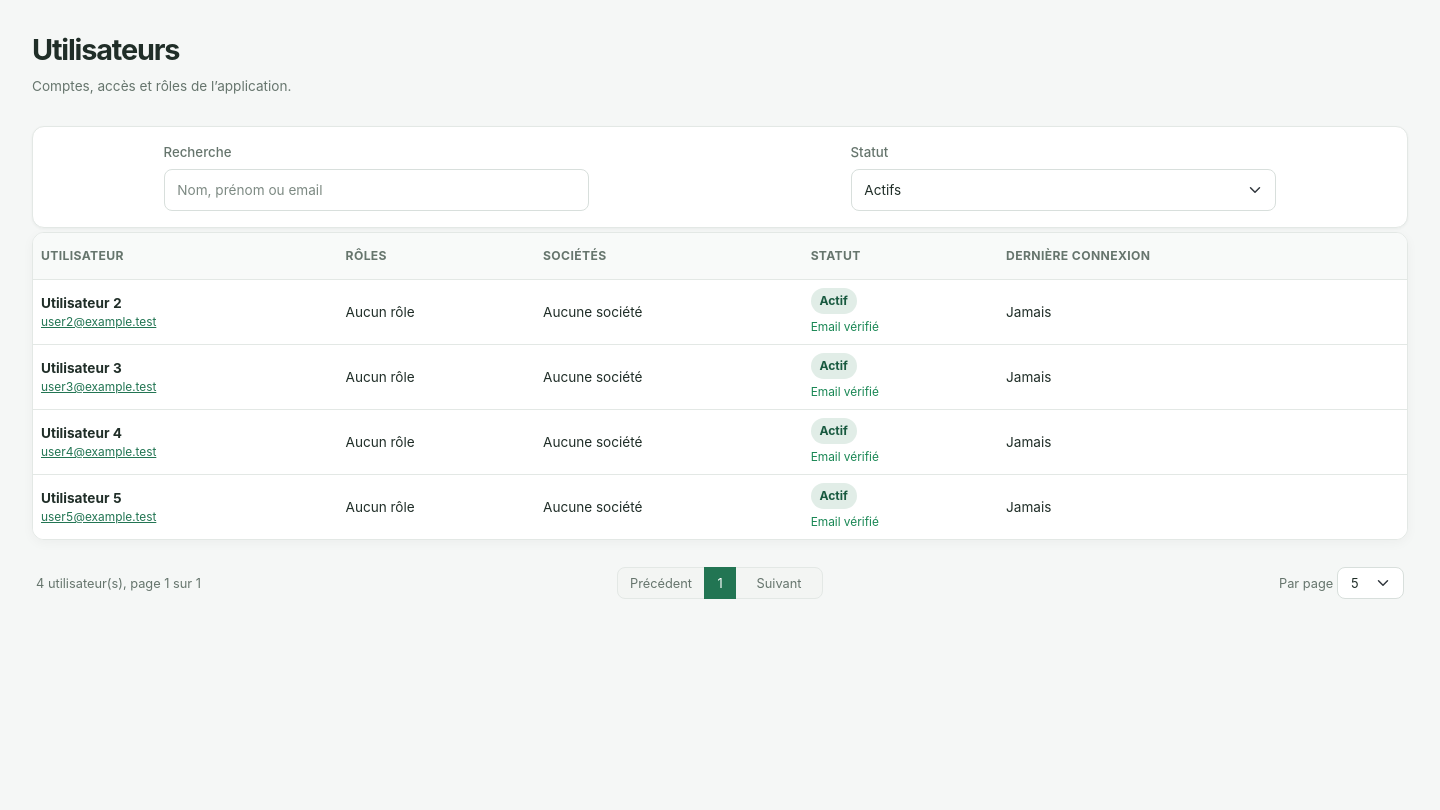
administrator table pagination › shows deleted users as read-only with the dedicated permission
Select "Supprimés" in the dropdown named "Filtrer par statut" at (1064, 190), box [850,169,1276,211]
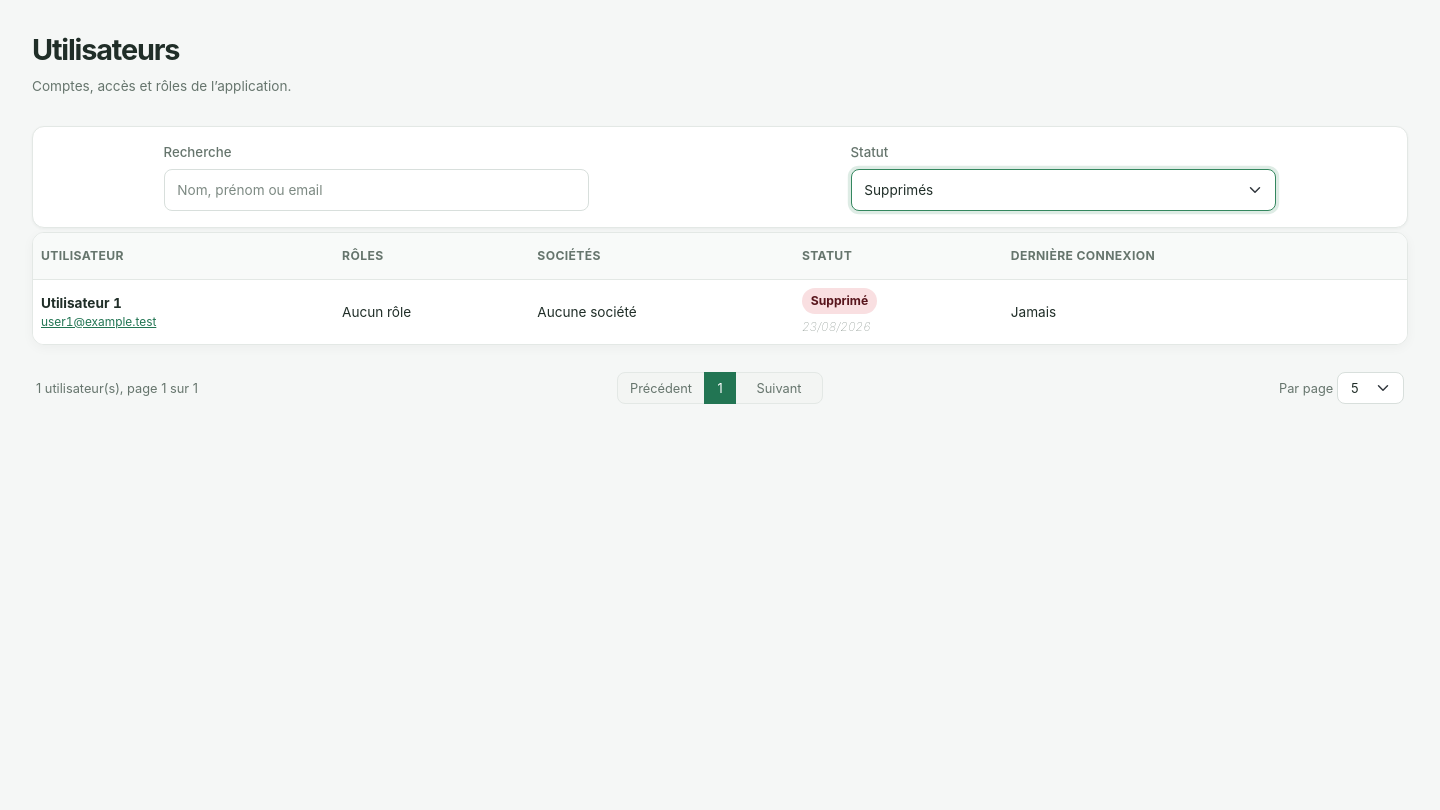
Now the link "user1@example.test" is shown, box [41,314,156,329]
